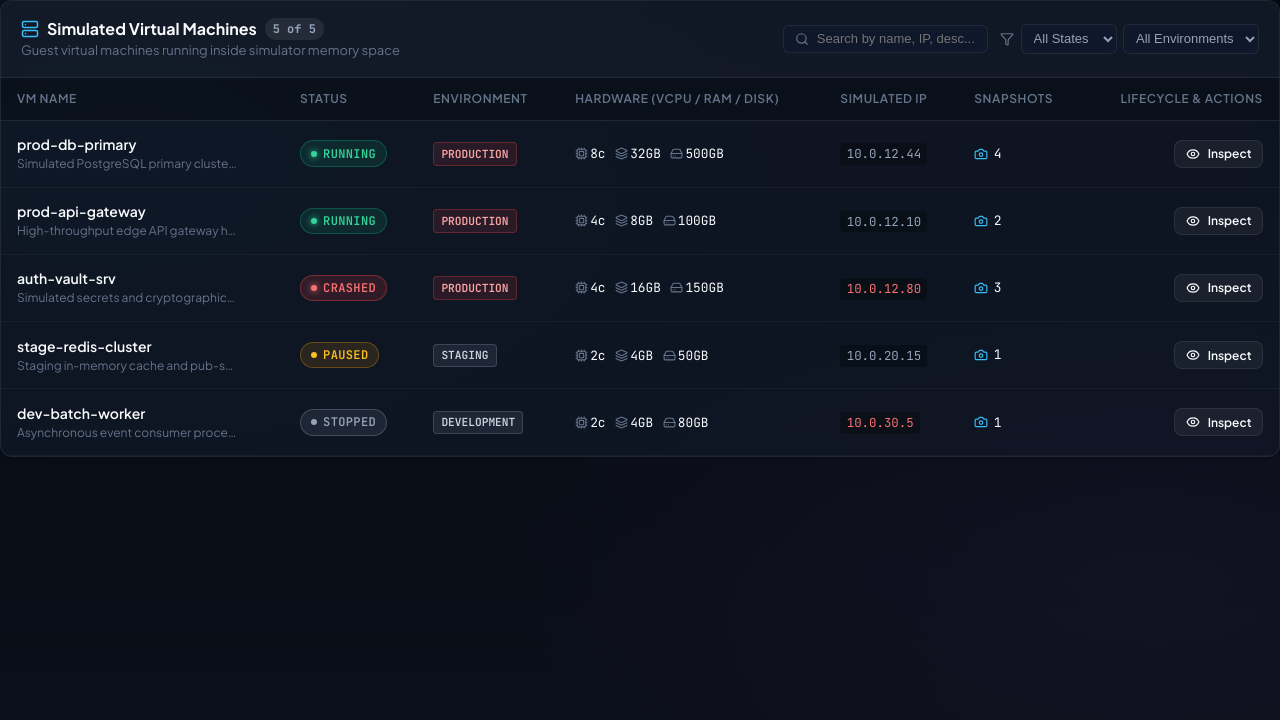
Test: VMInventoryTable Component › filters virtual machines by environment
Select "Development" in the dropdown with test id "vm-env-filter": (1191, 39) [1123,24,1259,54]
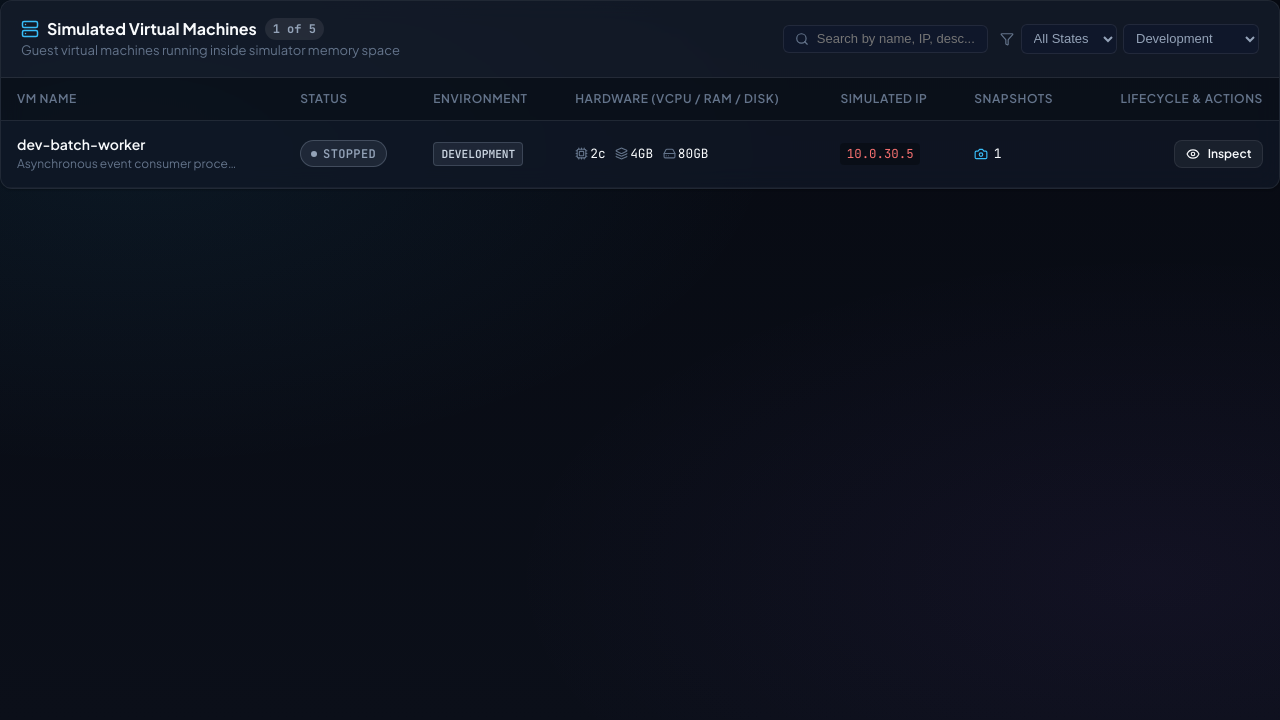
Expected: the text "dev-batch-worker" is shown, [17,135,145,153]
Expected: the text "prod-db-primary" is gone
